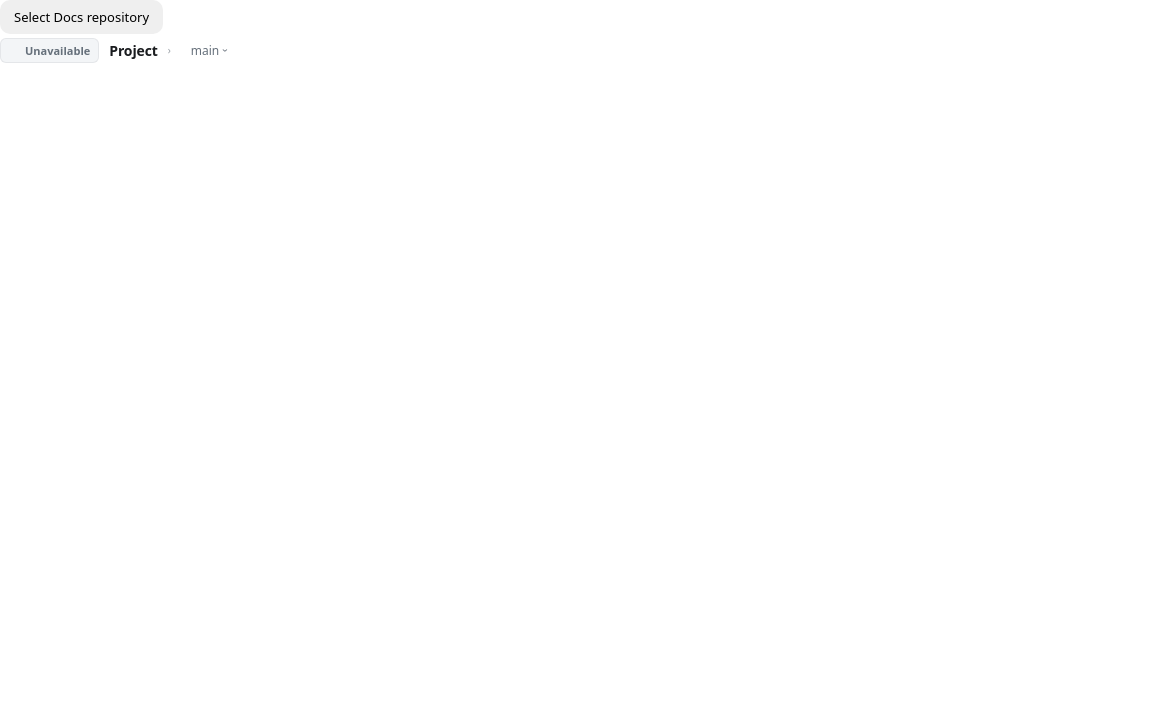
Test case: shows failed environment reads and retries without presenting a guessed directory
This screenshot has width=1152, height=720.
Click the button "Unavailable" at (50, 50), box [0,38,99,62]
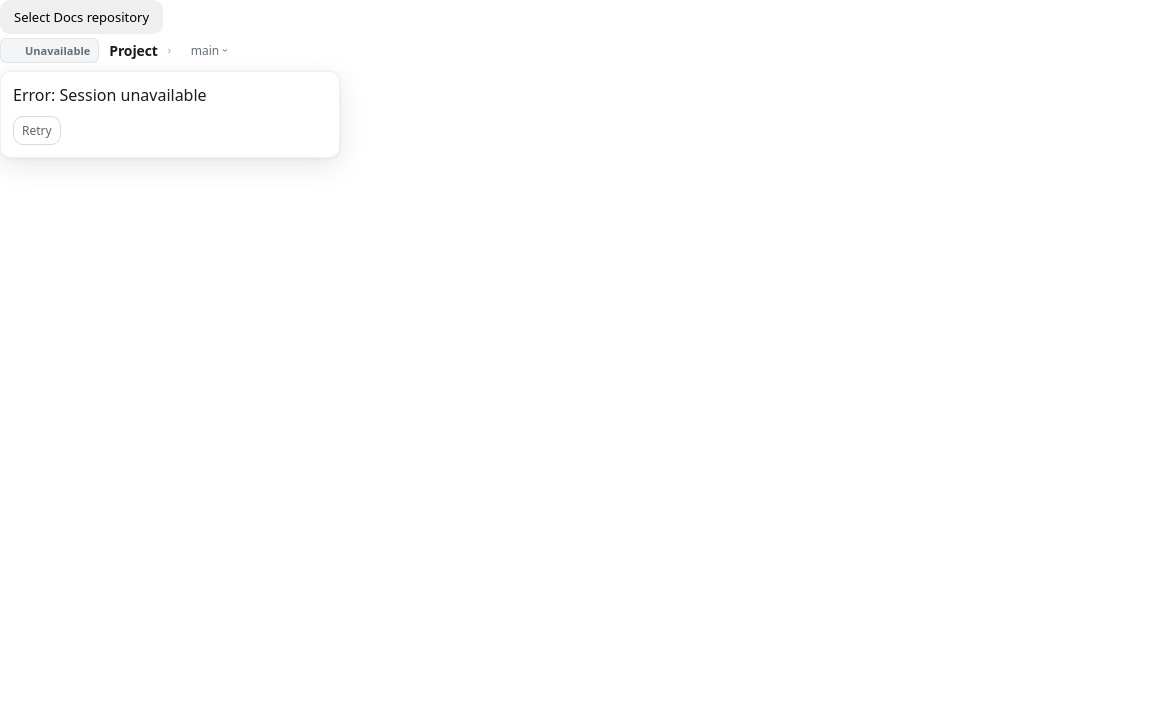
Expected: the message shows "Session unavailable", [13,84,207,106]
Click the button "Retry" at (37, 130), box [13,116,61,144]
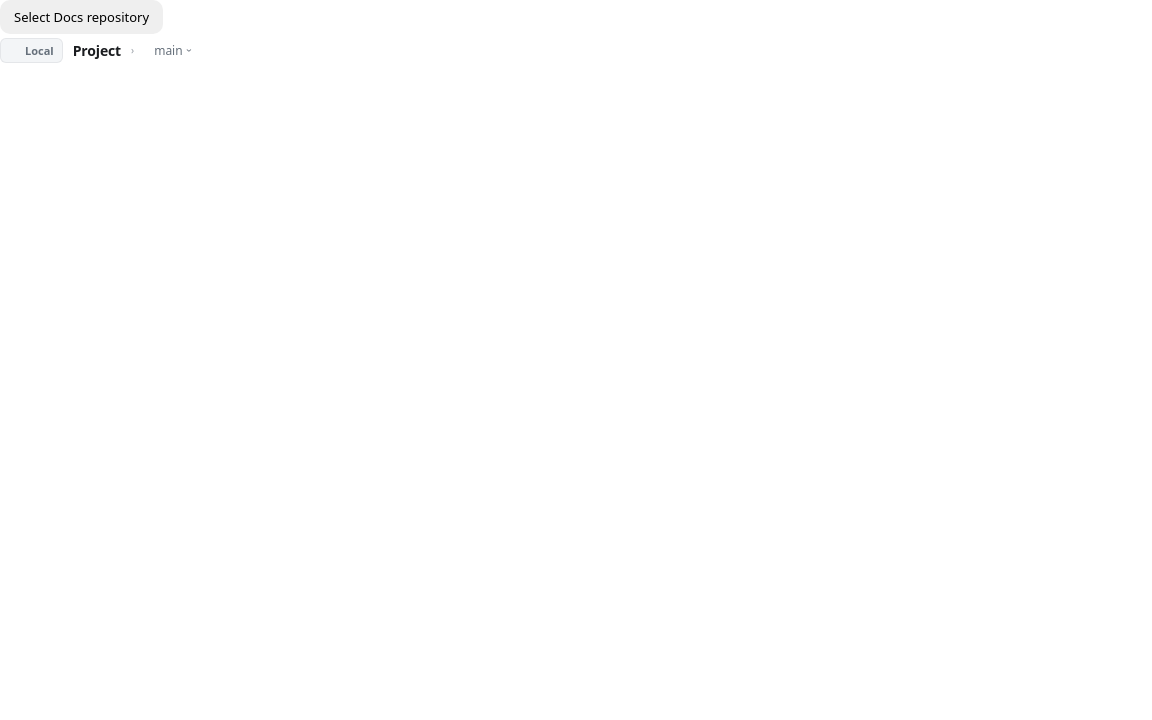
Click the button "Local" at (31, 50), box [0,38,63,62]
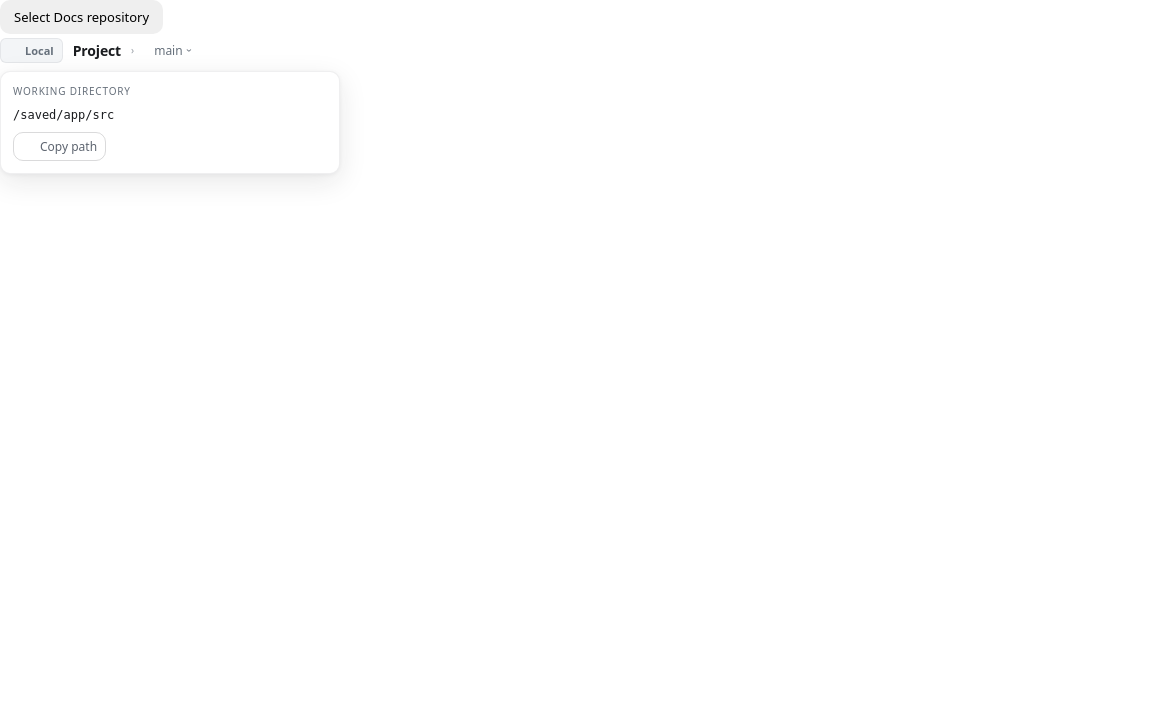
Expected: the text "/saved/app/src" is shown, [13,108,114,122]
